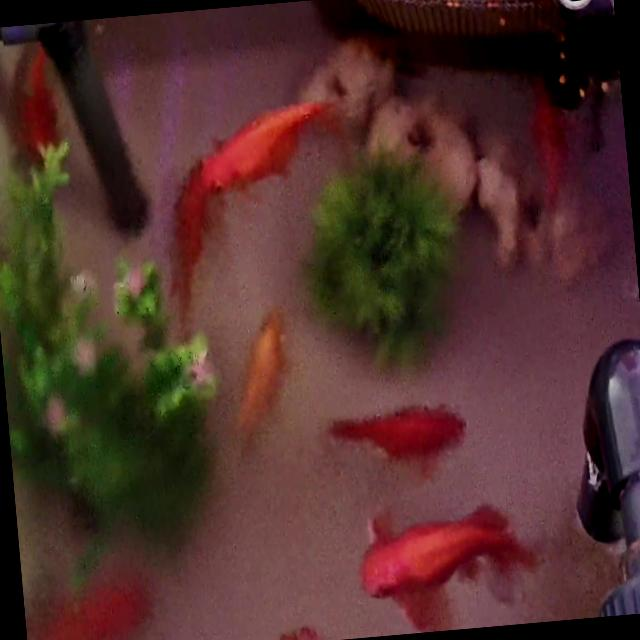fish: (364, 498, 538, 636), (186, 97, 327, 197), (160, 157, 230, 336), (20, 555, 165, 640), (224, 308, 295, 454), (328, 398, 462, 473), (8, 39, 66, 172), (525, 72, 576, 222)
